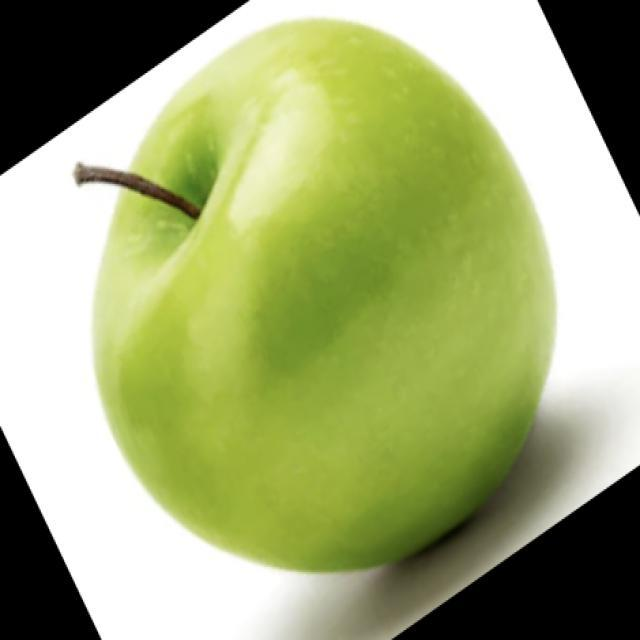Fresh Apple: (98, 20, 552, 558)
